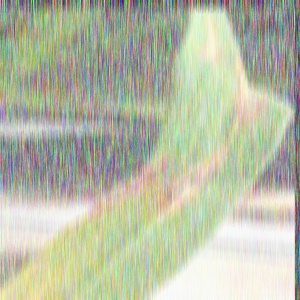Brown_Spot: (145, 136, 237, 213), (74, 141, 176, 210), (231, 50, 277, 126), (194, 8, 230, 61)
